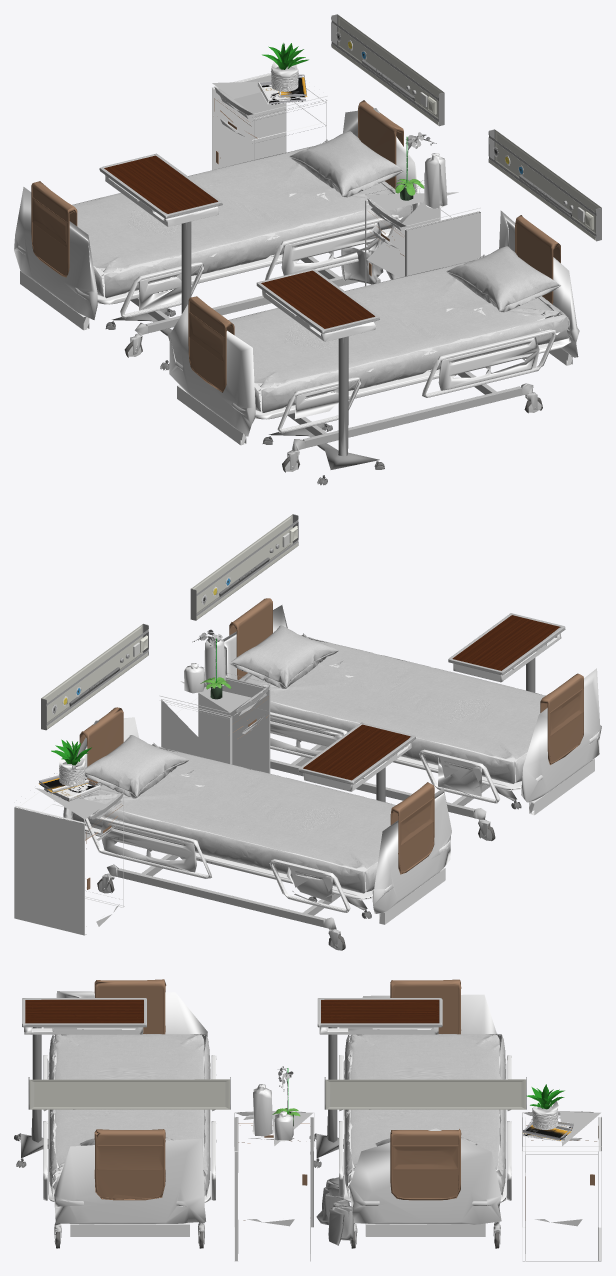
The model's file is ward_a_furniture.glb.
3 views of the same model, one above another, from view 1: azimuth 30°, elevation 25°; view 2: azimuth 150°, elevation 25°; view 3: azimuth 270°, elevation 25° (orthographic). The views are drawn at different scales.
Parts seen in each view (by area): view 1: ward_a_bai_bu_liao, ward_a_bai_su_liao, ward_a_material, ward_a_bai_su_liao_1, ward_a_bai_qi, ward_a_mu_wen, ward_a_Archmodels70_056_01, ward_a_chuangjia_x, ward_a_xj_hei2, ward_a_Archmodels70_056_12, ward_a_bai_gang, ward_a_material_0 (+2 smaller); view 2: ward_a_bai_bu_liao, ward_a_bai_su_liao, ward_a_material, ward_a_bai_su_liao_1, ward_a_bai_qi, ward_a_mu_wen, ward_a_Archmodels70_056_01, ward_a_chuangjia_x, ward_a_bai_gang, ward_a_Archmodels70_056_12, ward_a_material_0, ward_a_xj_hei2 (+2 smaller); view 3: ward_a_bai_bu_liao, ward_a_bai_su_liao, ward_a_bai_su_liao_1, ward_a_Archmodels70_056_01, ward_a_mu_wen, ward_a_material, ward_a_xj_hei2, ward_a_bai_qi, ward_a_Archmodels70_056_12, ward_a_material_0, ward_a_chuangjia_x, ward_a_bai_gang (+2 smaller).
Part boxes in pixels (left/top/right/bottom): ward_a_bai_bu_liao: left=72, top=131, right=570, bottom=412; ward_a_bai_su_liao: left=14, top=108, right=579, bottom=445; ward_a_material: left=212, top=73, right=480, bottom=285; ward_a_bai_su_liao_1: left=31, top=98, right=560, bottom=392; ward_a_bai_qi: left=99, top=153, right=537, bottom=469; ward_a_mu_wen: left=104, top=155, right=374, bottom=328; ward_a_Archmodels70_056_01: left=332, top=15, right=601, bottom=240; ward_a_chuangjia_x: left=93, top=192, right=571, bottom=419; ward_a_xj_hei2: left=106, top=221, right=384, bottom=484; ward_a_Archmodels70_056_12: left=276, top=20, right=595, bottom=284; ward_a_bai_gang: left=212, top=73, right=480, bottom=229; ward_a_material_0: left=424, top=153, right=447, bottom=208; ward_a_bai_bu_liao: left=71, top=625, right=545, bottom=893; ward_a_bai_su_liao: left=63, top=605, right=601, bottom=924; ward_a_material: left=14, top=672, right=270, bottom=935; ward_a_bai_su_liao_1: left=79, top=598, right=583, bottom=889; ward_a_bai_qi: left=102, top=613, right=565, bottom=947; ward_a_mu_wen: left=303, top=615, right=559, bottom=780; ward_a_Archmodels70_056_01: left=41, top=514, right=298, bottom=729; ward_a_chuangjia_x: left=85, top=664, right=527, bottom=900; ward_a_bai_gang: left=18, top=666, right=270, bottom=823; ward_a_Archmodels70_056_12: left=47, top=520, right=297, bottom=768; ward_a_material_0: left=184, top=635, right=225, bottom=693; ward_a_xj_hei2: left=309, top=658, right=535, bottom=918; ward_a_bai_bu_liao: left=48, top=1034, right=505, bottom=1197; ward_a_bai_su_liao: left=24, top=991, right=511, bottom=1236; ward_a_bai_su_liao_1: left=94, top=979, right=598, bottom=1220; ward_a_Archmodels70_056_01: left=29, top=1079, right=525, bottom=1109; ward_a_mu_wen: left=25, top=999, right=439, bottom=1023; ward_a_material: left=234, top=1116, right=601, bottom=1261; ward_a_xj_hei2: left=14, top=1027, right=343, bottom=1167; ward_a_bai_qi: left=22, top=998, right=500, bottom=1244; ward_a_Archmodels70_056_12: left=73, top=1073, right=551, bottom=1245; ward_a_material_0: left=252, top=1084, right=293, bottom=1141; ward_a_chuangjia_x: left=48, top=1055, right=506, bottom=1202; ward_a_bai_gang: left=234, top=1111, right=601, bottom=1150.
Size of the model in its own units: 1.97 by 1.09 by 3.04.
38 materials, 5 textured.
